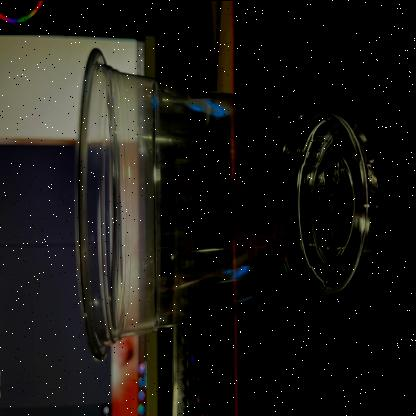Others: (74, 44, 382, 360)
